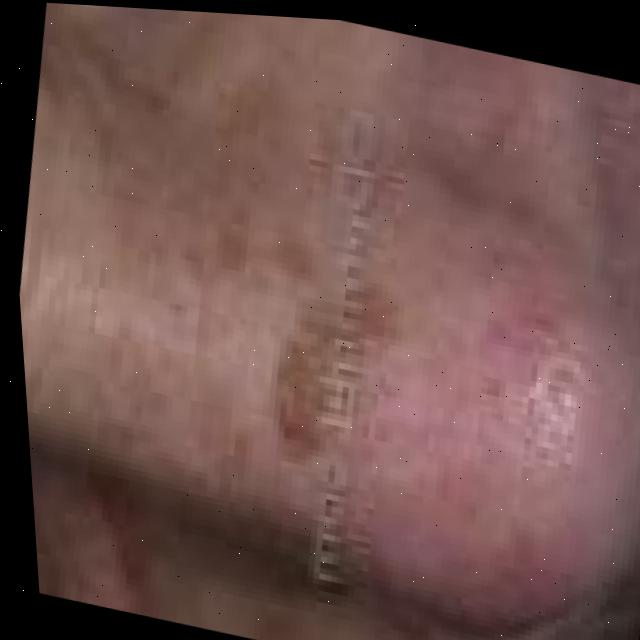Melasma: (243, 284, 408, 472)
